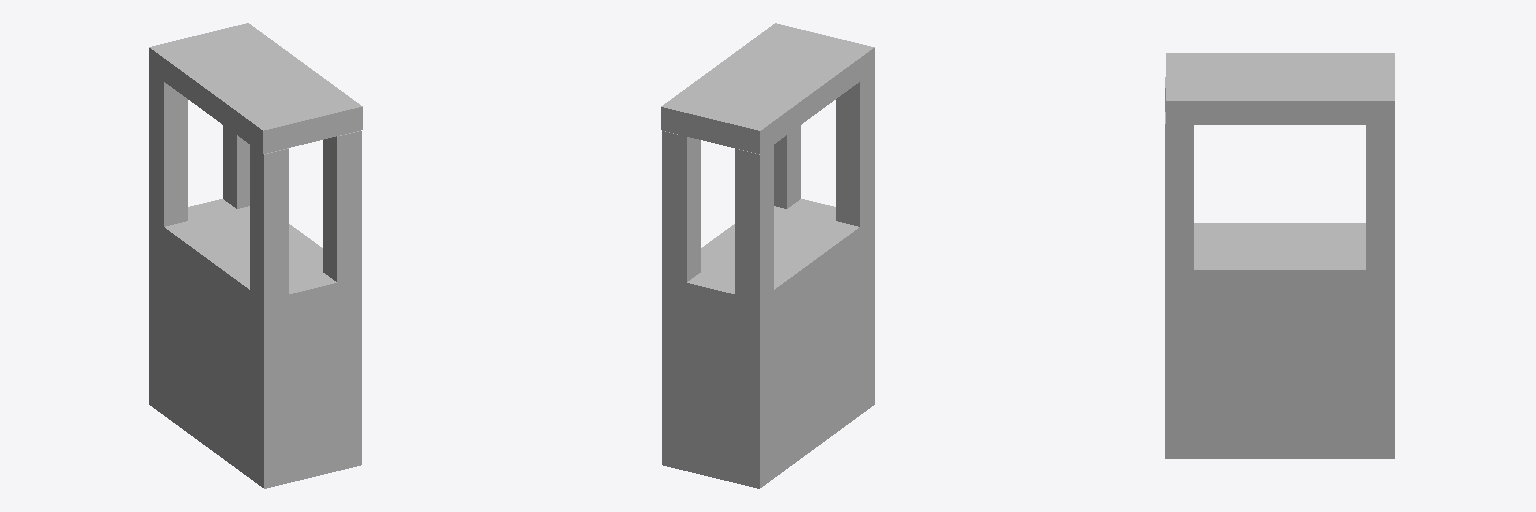
Rendered from binblend.obj.
3 views of the same model, side by side, from view 1: azimuth 30°, elevation 25°; view 2: azimuth 150°, elevation 25°; view 3: azimuth 270°, elevation 25° (orthographic).
Parts seen in each view (by area): view 1: Cube.002_Cube.003; view 2: Cube.002_Cube.003; view 3: Cube.002_Cube.003.
Part boxes in pixels (bbox=[...]): Cube.002_Cube.003: bbox=[149, 23, 362, 488]; Cube.002_Cube.003: bbox=[661, 23, 874, 488]; Cube.002_Cube.003: bbox=[1165, 53, 1394, 458].
Size of the model in its own units: 202 by 694 by 404.